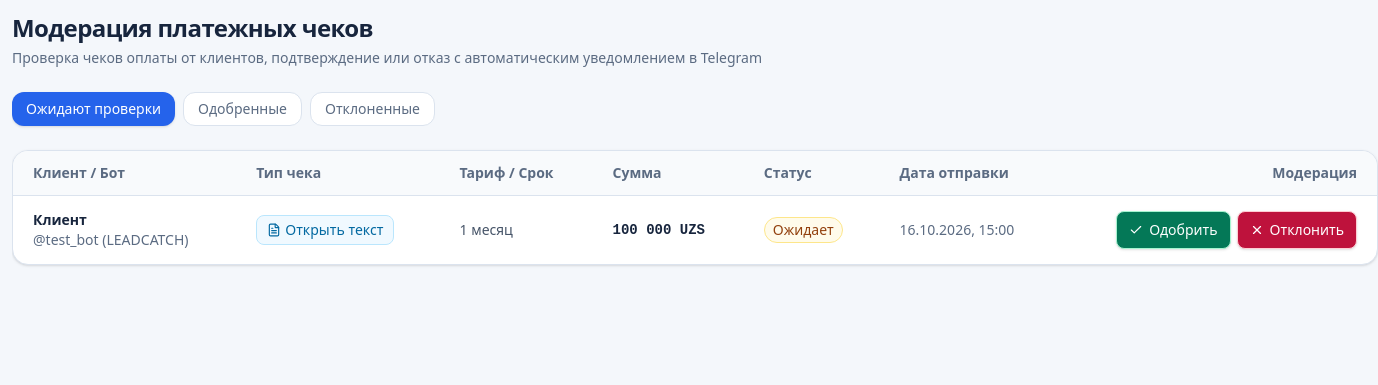
Test: Модерация оплаты › показывает успех только после успешного одобрения и обновляет связанные данные
expect the text "Клиент" is shown: met, box [33,210,87,229]
What coordinates should you click on to do the following:
click the button "Одобрить"
I would click on:
 (1173, 230)
Its box is [1116,211,1230,249].
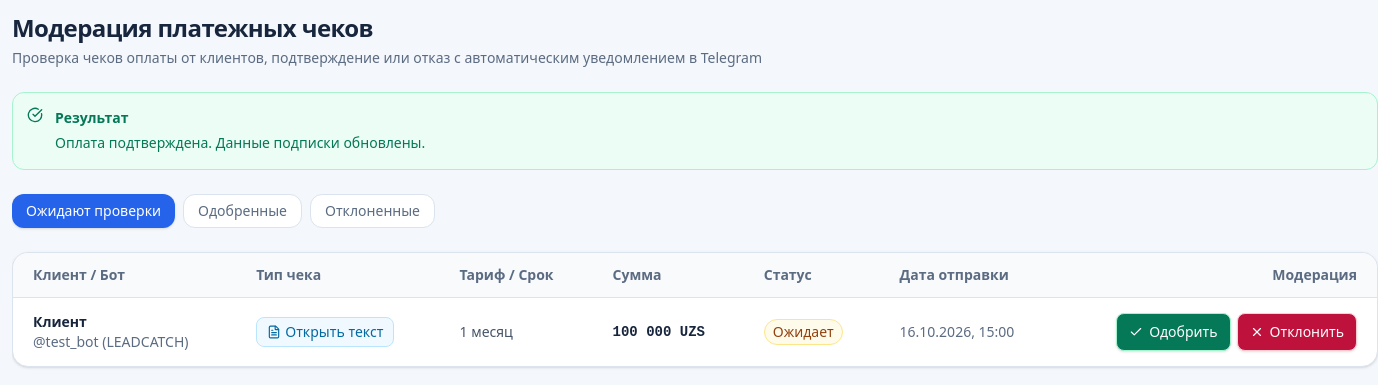
expect the text "Оплата подтверждена. Данные подписки обновлены." is shown: met, box [55,132,425,155]
